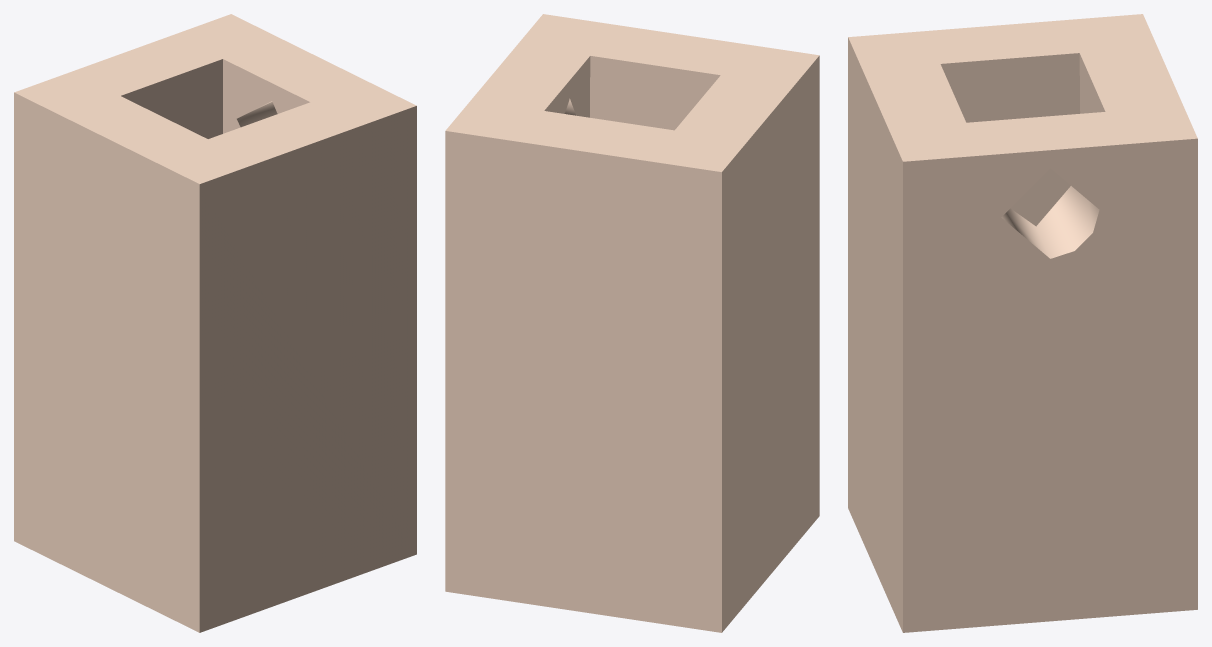
The model's file is Marteau - pont marteau_Heures.obj.
The picture shows the model from 3 angles, left to right: view 1: azimuth 30°, elevation 25°; view 2: azimuth 150°, elevation 25°; view 3: azimuth 270°, elevation 25°; orthographic projection. The views are drawn at different scales.
Parts seen in each view (by area): view 1: Face_8, Face_9, Face_10, Face_2, Face_5; view 2: Face_7, Face_9, Face_10, Face_4, Face_5; view 3: Face_6, Face_10, Face_8, Face_3, Face_11, Face_2.
Boxes of the visible parts, bbox=[...] form: Face_8: bbox=[199, 106, 416, 632]; Face_9: bbox=[14, 92, 199, 632]; Face_10: bbox=[14, 14, 416, 183]; Face_2: bbox=[121, 59, 222, 138]; Face_5: bbox=[223, 59, 309, 133]; Face_7: bbox=[445, 131, 721, 632]; Face_9: bbox=[722, 55, 819, 632]; Face_10: bbox=[445, 14, 819, 171]; Face_4: bbox=[590, 56, 720, 130]; Face_5: bbox=[544, 56, 590, 117]; Face_6: bbox=[903, 138, 1197, 632]; Face_10: bbox=[848, 14, 1197, 161]; Face_8: bbox=[848, 37, 902, 632]; Face_3: bbox=[940, 53, 1080, 226]; Face_11: bbox=[1001, 186, 1099, 258]; Face_2: bbox=[1079, 54, 1105, 113].
Size of the model in its own units: 0.00874 by 0.013 by 0.00874.
